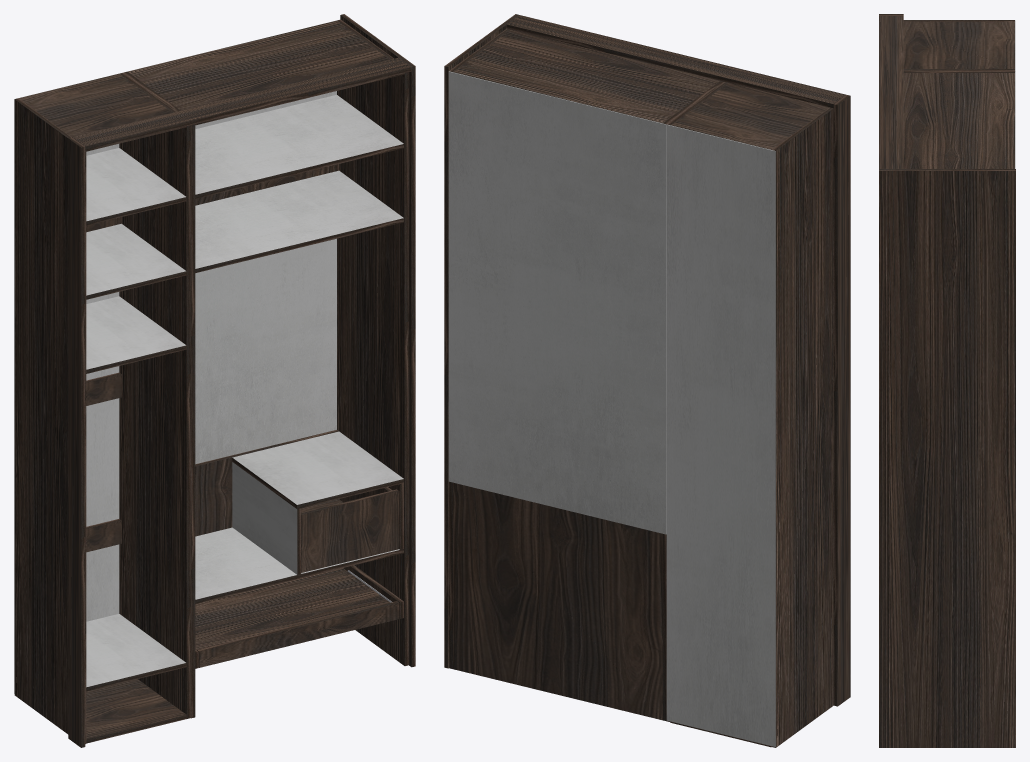
The picture shows the model from 3 angles, left to right: view 1: azimuth 30°, elevation 25°; view 2: azimuth 150°, elevation 25°; view 3: azimuth 270°, elevation 25°; orthographic projection. The views are drawn at different scales.
Visible parts, largest first — view 1: Проба; view 2: Проба; view 3: Проба.
Part boxes in pixels (<box>): Проба: <box>14,14,415,747</box>; Проба: <box>444,14,850,747</box>; Проба: <box>879,14,1015,747</box>.
Size of the model in its own units: 1.5 by 2.57 by 0.553.
Materials: 9 (9 with a texture image).
